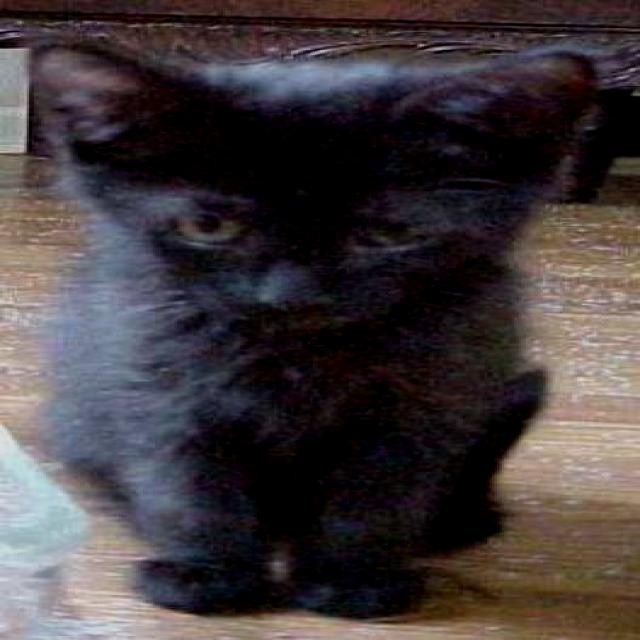Kucing: (12, 26, 634, 338)
